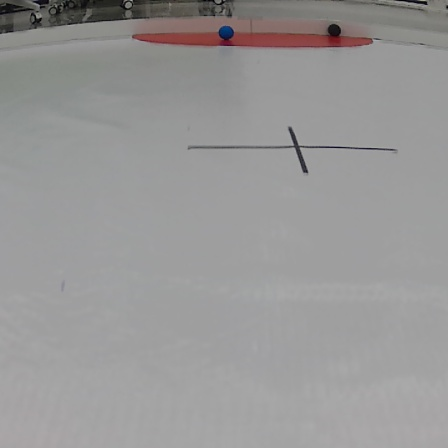black: (328, 23, 341, 38)
blue: (217, 23, 236, 39)
red_base: (132, 28, 373, 50)
